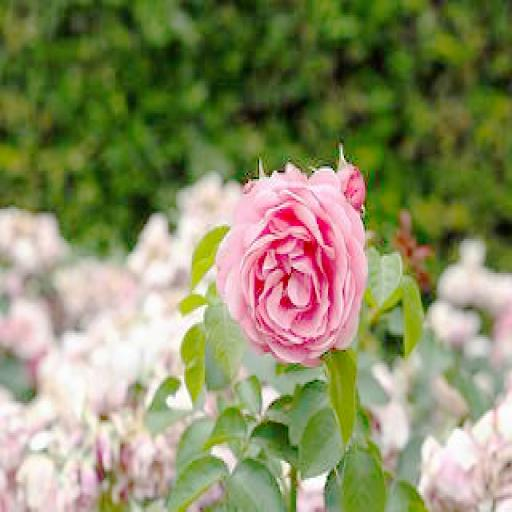rose: (218, 164, 363, 361)
